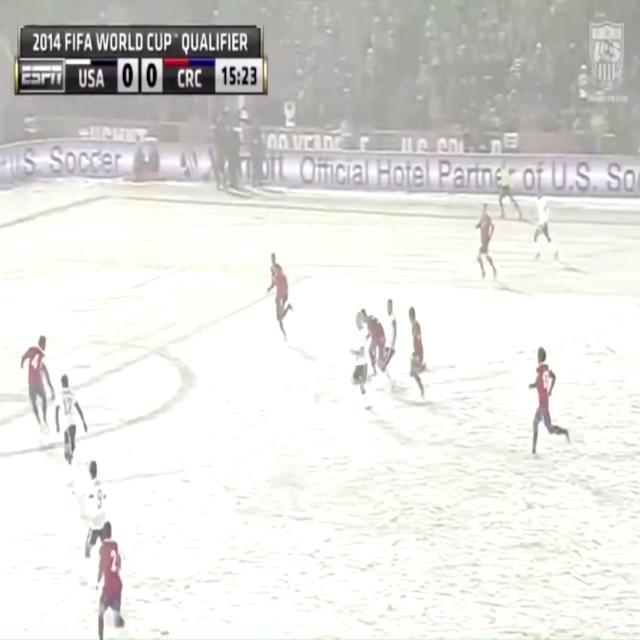ball: (309, 384, 324, 410)
player: (531, 349, 578, 503), (95, 520, 133, 640), (19, 334, 57, 446), (263, 245, 305, 345), (56, 367, 86, 483), (528, 188, 565, 275), (403, 305, 435, 399), (358, 297, 391, 387), (84, 459, 108, 577), (354, 316, 378, 426), (471, 201, 501, 285), (383, 300, 399, 389)
referee: (494, 160, 524, 229)
